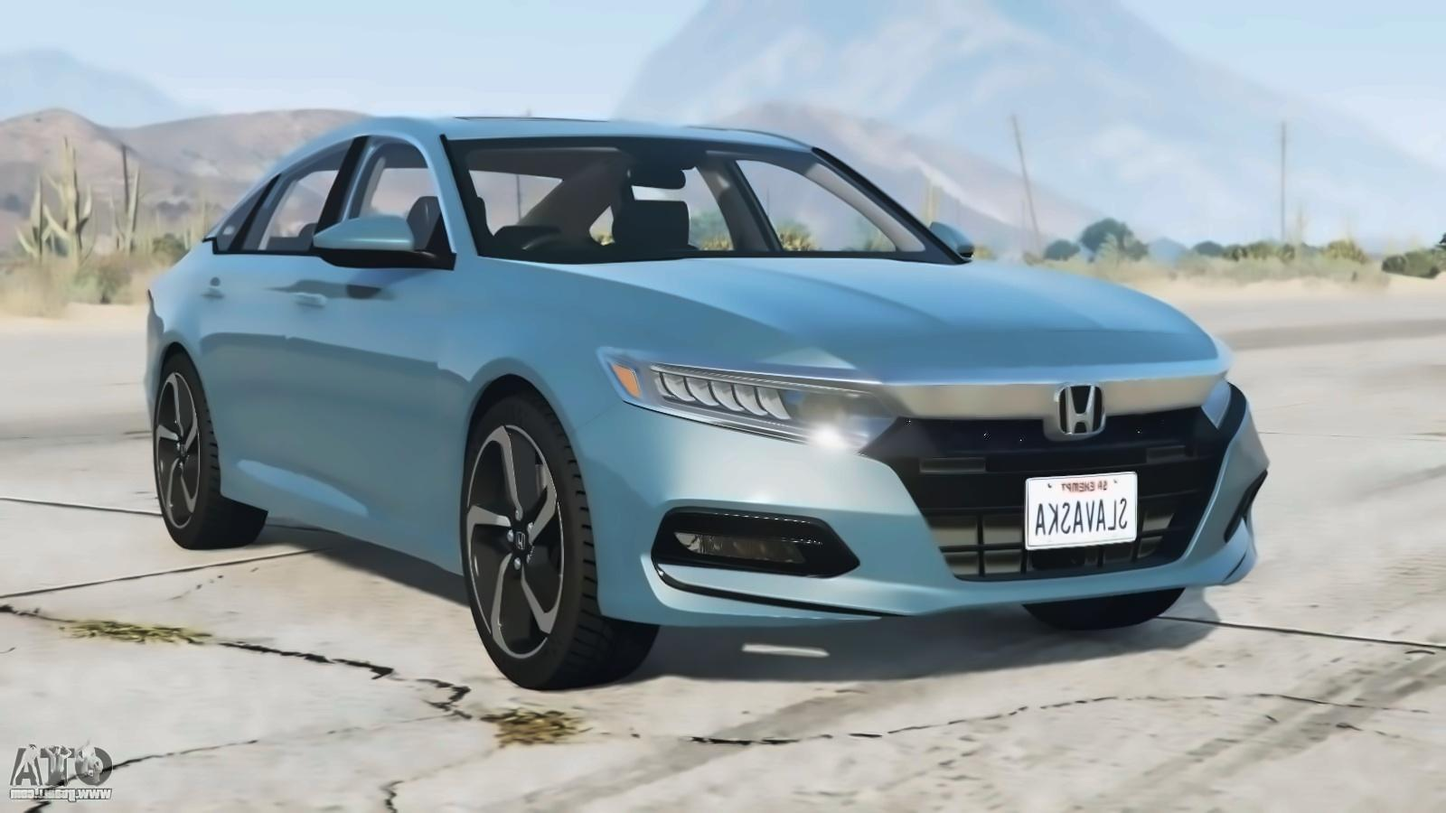Car hood: (583, 253, 1240, 391)
Driver-s door - -F-R-: (310, 111, 482, 549)
Fender - -F-R-: (454, 237, 623, 588)
Fender - -R-L-: (163, 241, 228, 502)
Front bumper: (572, 405, 1283, 639)
Headlight - -R-: (590, 335, 909, 468)
Passenger-s door - -R-R-: (201, 118, 344, 505)
Rear bumper: (127, 321, 184, 442)
Side bumper - -R-: (208, 456, 484, 583)
Side mirror - -L-: (918, 204, 1009, 278)
Side mirror - -R-: (303, 201, 430, 292)
